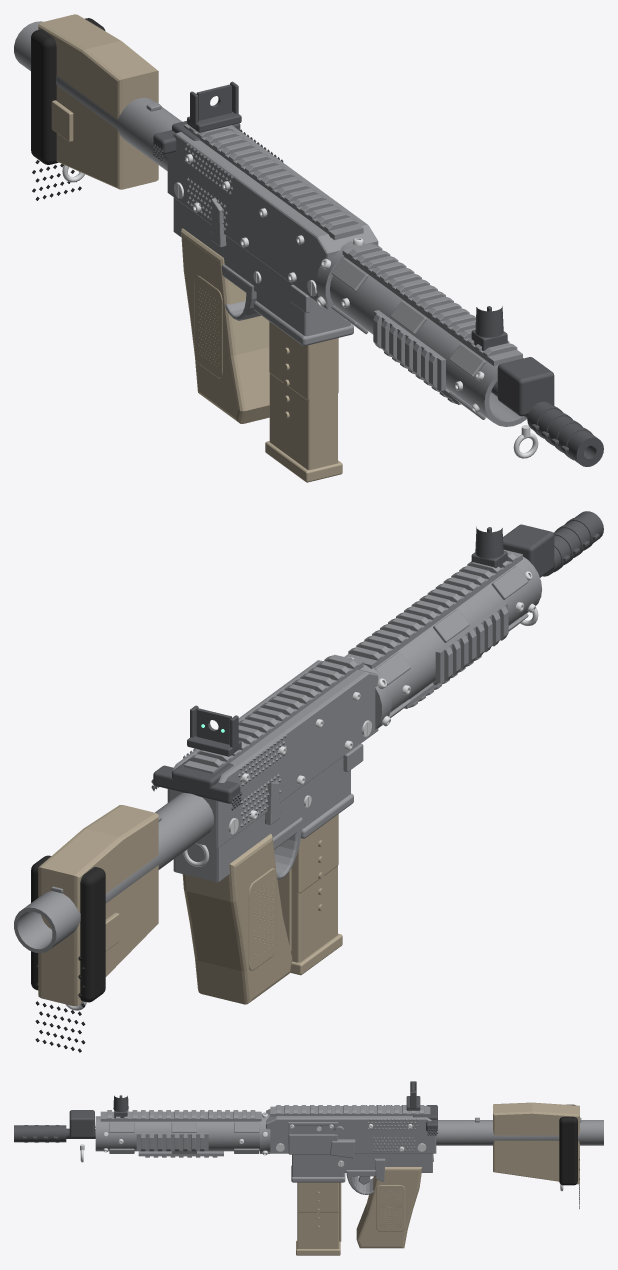
Rendered from mpx.glb.
The picture shows the model from 3 angles, top to bottom: view 1: azimuth 30°, elevation 25°; view 2: azimuth 150°, elevation 25°; view 3: azimuth 270°, elevation 25°; orthographic projection. The views are drawn at different scales.
Visible parts, largest first — view 1: carbine-smg, stock/polymerTan, magazine/polymerTan, stock/rubber, charge; view 2: carbine-smg, stock/polymerTan, magazine/polymerTan, stock/rubber, charge; view 3: carbine-smg, stock/polymerTan, magazine/polymerTan, stock/rubber, charge.
Part boxes in pixels (x1,y1,x2,y2): carbine-smg: [14, 21, 603, 466]; stock/polymerTan: [38, 14, 158, 189]; magazine/polymerTan: [265, 321, 342, 482]; stock/rubber: [31, 18, 105, 200]; charge: [152, 121, 240, 160]; carbine-smg: [14, 511, 603, 1004]; stock/polymerTan: [38, 805, 158, 1006]; magazine/polymerTan: [277, 814, 342, 975]; stock/rubber: [31, 855, 105, 1052]; charge: [151, 759, 242, 810]; carbine-smg: [14, 1081, 603, 1248]; stock/polymerTan: [493, 1102, 579, 1184]; magazine/polymerTan: [296, 1182, 341, 1255]; stock/rubber: [559, 1104, 579, 1208]; charge: [413, 1105, 437, 1135].
Bounding box in the file's own units: 0.0592 × 0.2189 × 0.7.
